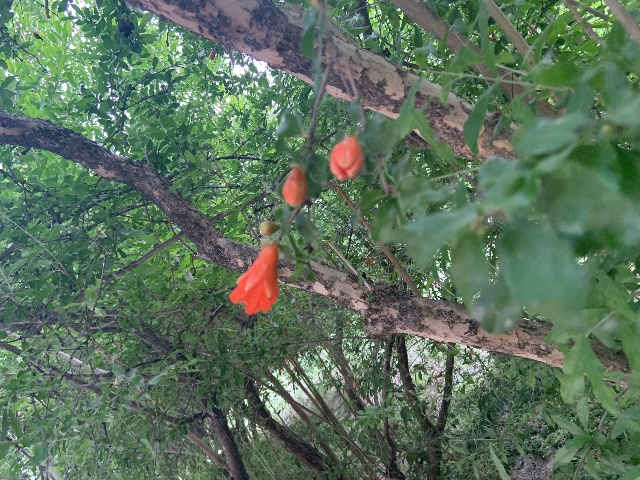bud: (329, 135, 364, 181), (282, 165, 307, 206), (259, 220, 278, 236), (209, 50, 215, 60)
flower: (229, 243, 279, 314), (365, 256, 376, 264)
